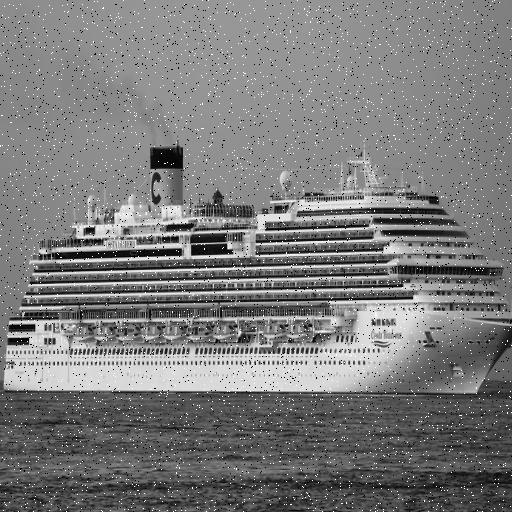cruises: (1, 127, 512, 397)
